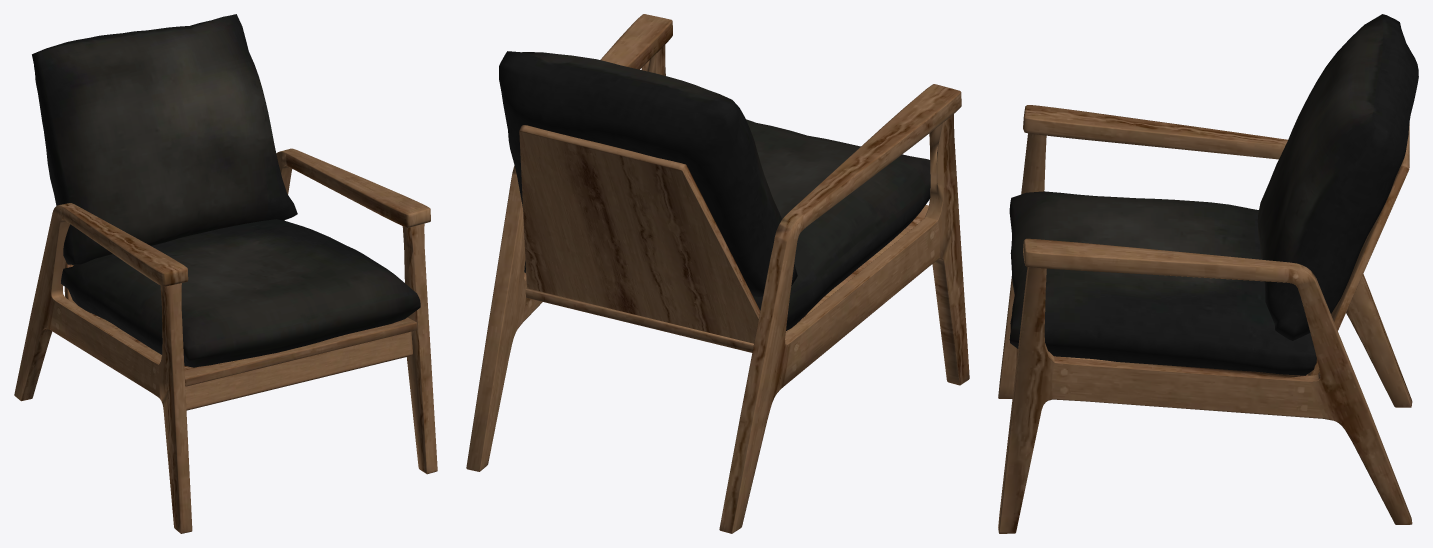
File: modern_arm_chair_01.glb
The picture shows the model from 3 angles, left to right: view 1: azimuth 30°, elevation 25°; view 2: azimuth 150°, elevation 25°; view 3: azimuth 270°, elevation 25°; orthographic projection. The views are drawn at different scales.
Visible parts, largest first — view 1: modern_arm_chair_01; view 2: modern_arm_chair_01; view 3: modern_arm_chair_01.
Part boxes in pixels (box(x1,y1,x2,y2)): modern_arm_chair_01: box(14, 14, 437, 533); modern_arm_chair_01: box(466, 14, 969, 533); modern_arm_chair_01: box(998, 14, 1418, 533).
Size of the model in its own units: 0.8203 by 1.02 by 0.9866.
2 materials, 2 textured.
